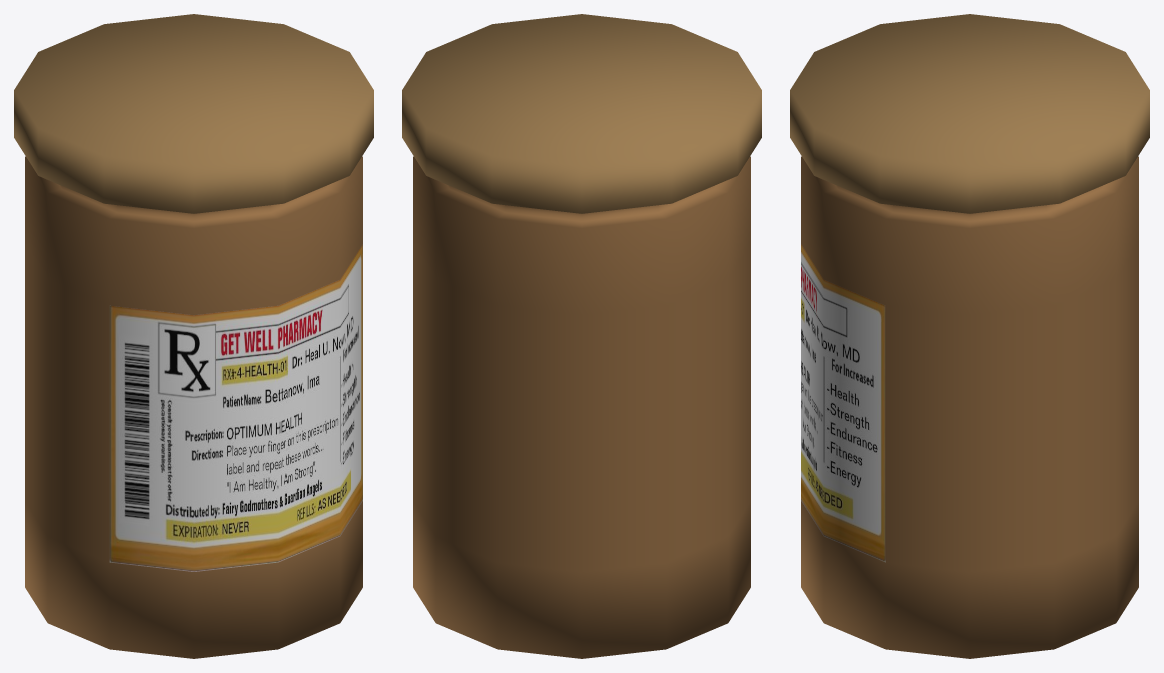
Rendered from pillbottle.fbx.
The picture shows the model from 3 angles, left to right: view 1: azimuth 30°, elevation 25°; view 2: azimuth 150°, elevation 25°; view 3: azimuth 270°, elevation 25°; orthographic projection.
Parts seen in each view (by area): view 1: pillbottle; view 2: pillbottle; view 3: pillbottle.
Boxes of the visible parts, x1=… form: pillbottle: x1=14, y1=14, x2=373, y2=658; pillbottle: x1=402, y1=14, x2=761, y2=658; pillbottle: x1=790, y1=14, x2=1149, y2=658.
Bounding box in the file's own units: 3.41 × 5.2 × 3.41.
3 materials, 1 textured.
